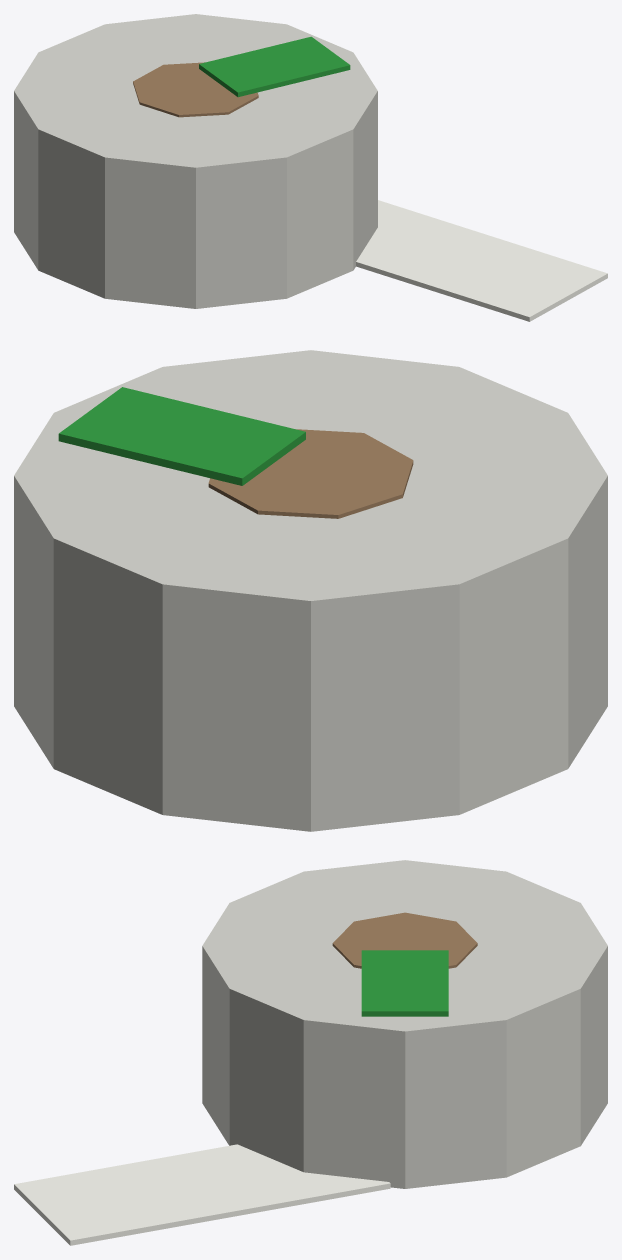
Rendered from muzzarella_labels.glb.
3 views of the same model, one above another, from view 1: azimuth 30°, elevation 25°; view 2: azimuth 150°, elevation 25°; view 3: azimuth 270°, elevation 25° (orthographic). The views are drawn at different scales.
Parts seen in each view (by area): view 1: roll_label_white, tail_label_white, print_label_print, core_label_core; view 2: roll_label_white, print_label_print, core_label_core; view 3: roll_label_white, tail_label_white, print_label_print, core_label_core.
Part boxes in pixels (<box>): roll_label_white: <box>14,14,377,308</box>; tail_label_white: <box>356,200,607,321</box>; print_label_print: <box>199,36,350,97</box>; core_label_core: <box>133,62,258,117</box>; roll_label_white: <box>14,350,607,831</box>; print_label_print: <box>58,387,305,485</box>; core_label_core: <box>208,429,413,518</box>; roll_label_white: <box>202,860,607,1188</box>; tail_label_white: <box>14,1144,390,1245</box>; print_label_print: <box>361,950,448,1016</box>; core_label_core: <box>332,912,477,968</box>.
Size of the model in its own units: 0.1864 by 0.064 by 0.205.
